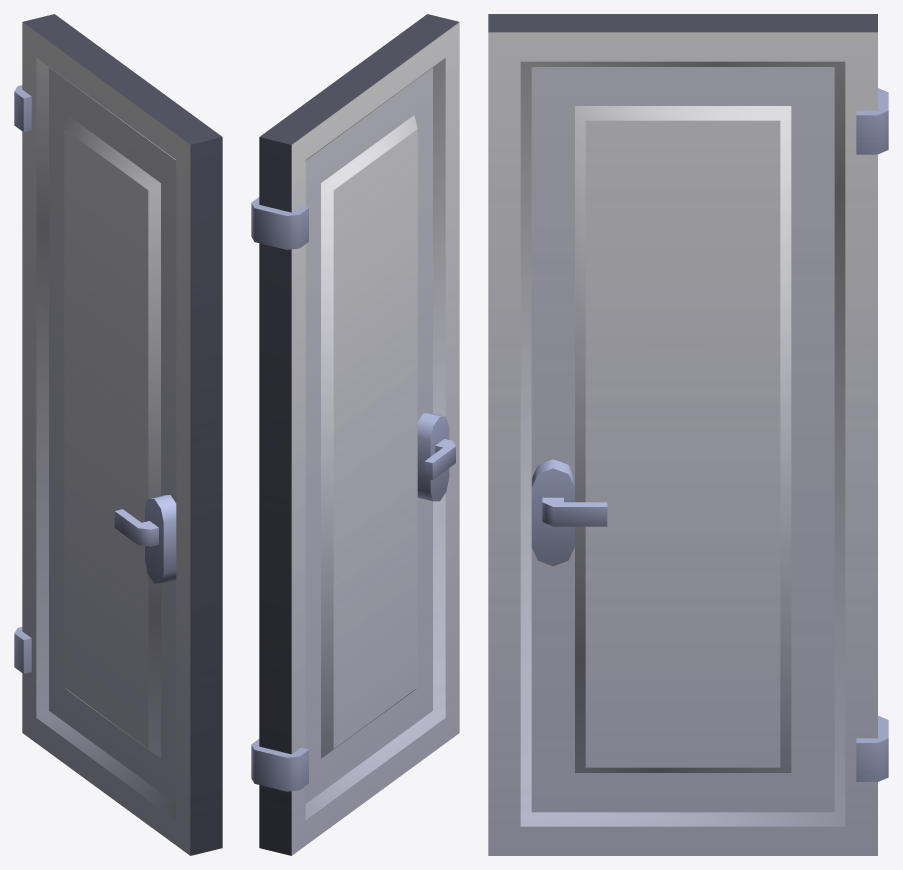
File: Grey Door.glb
The picture shows the model from 3 angles, left to right: view 1: azimuth 30°, elevation 25°; view 2: azimuth 150°, elevation 25°; view 3: azimuth 270°, elevation 25°; orthographic projection. The views are drawn at different scales.
Visible parts, largest first — view 1: door, handle; view 2: door, handle; view 3: door, handle.
Boxes of the visible parts, <box> form: door: <box>14,14,222,855</box>; handle: <box>114,509,158,546</box>; door: <box>251,14,459,855</box>; handle: <box>424,439,455,479</box>; door: <box>488,14,888,855</box>; handle: <box>542,497,607,526</box>.
Size of the model in its own units: 0.25 by 2.1 by 0.925.
Materials: 1 (1 with a texture image).
